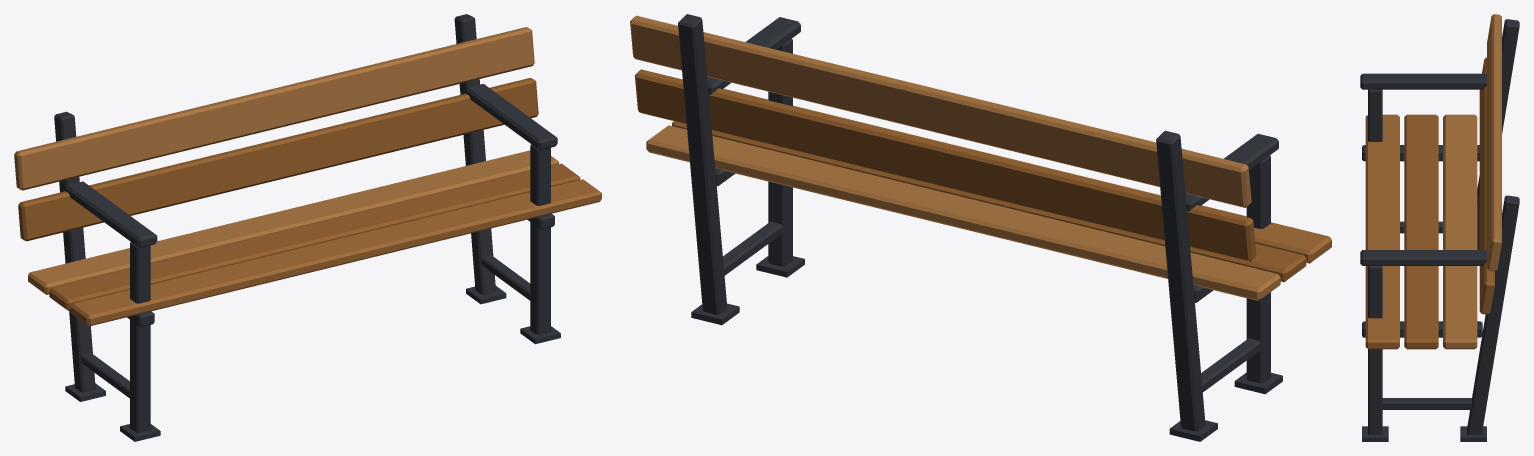
The model's file is park_bench.glb.
3 renders of one model, left to right at view 1: azimuth 30°, elevation 25°; view 2: azimuth 150°, elevation 25°; view 3: azimuth 270°, elevation 25°, orthographic. The views are drawn at different scales.
Visible parts, largest first — view 1: park_bench; view 2: park_bench; view 3: park_bench.
Part boxes in pixels (left/top/right/bottom): park_bench: left=14, top=14, right=601, bottom=441; park_bench: left=630, top=14, right=1331, bottom=441; park_bench: left=1360, top=14, right=1519, bottom=441.
Size of the model in its own units: 1.8 by 0.8856 by 0.5339.
